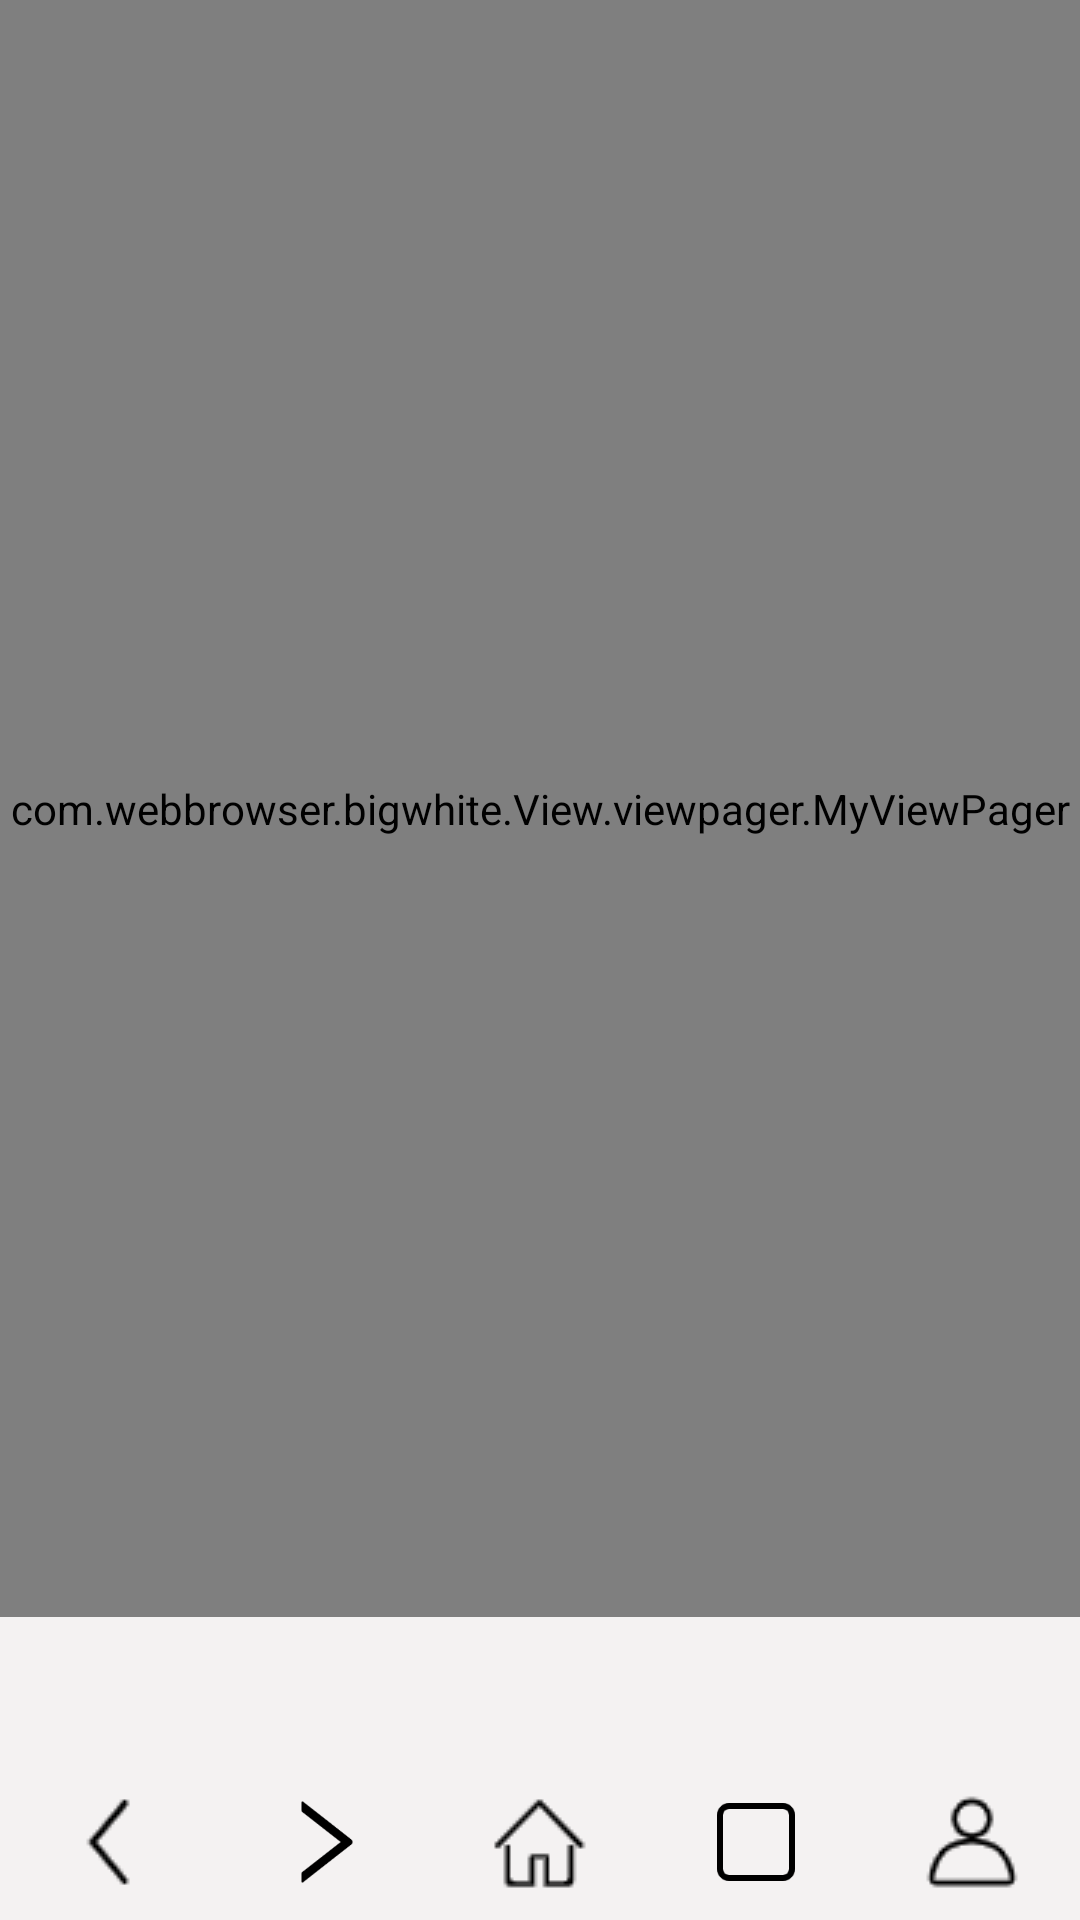

Locate icon controls on the screen. Image size 1080x1920, boxes as (x1, y1, x2, y2).
home: (494, 1799, 586, 1888)
left: (87, 1799, 130, 1885)
right: (301, 1801, 353, 1883)
windows: (717, 1803, 795, 1881)
